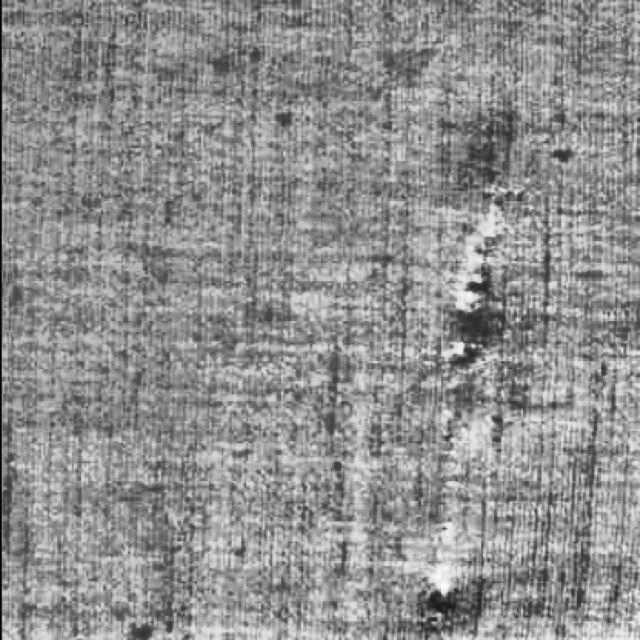thread_error: (396, 169, 518, 622)
